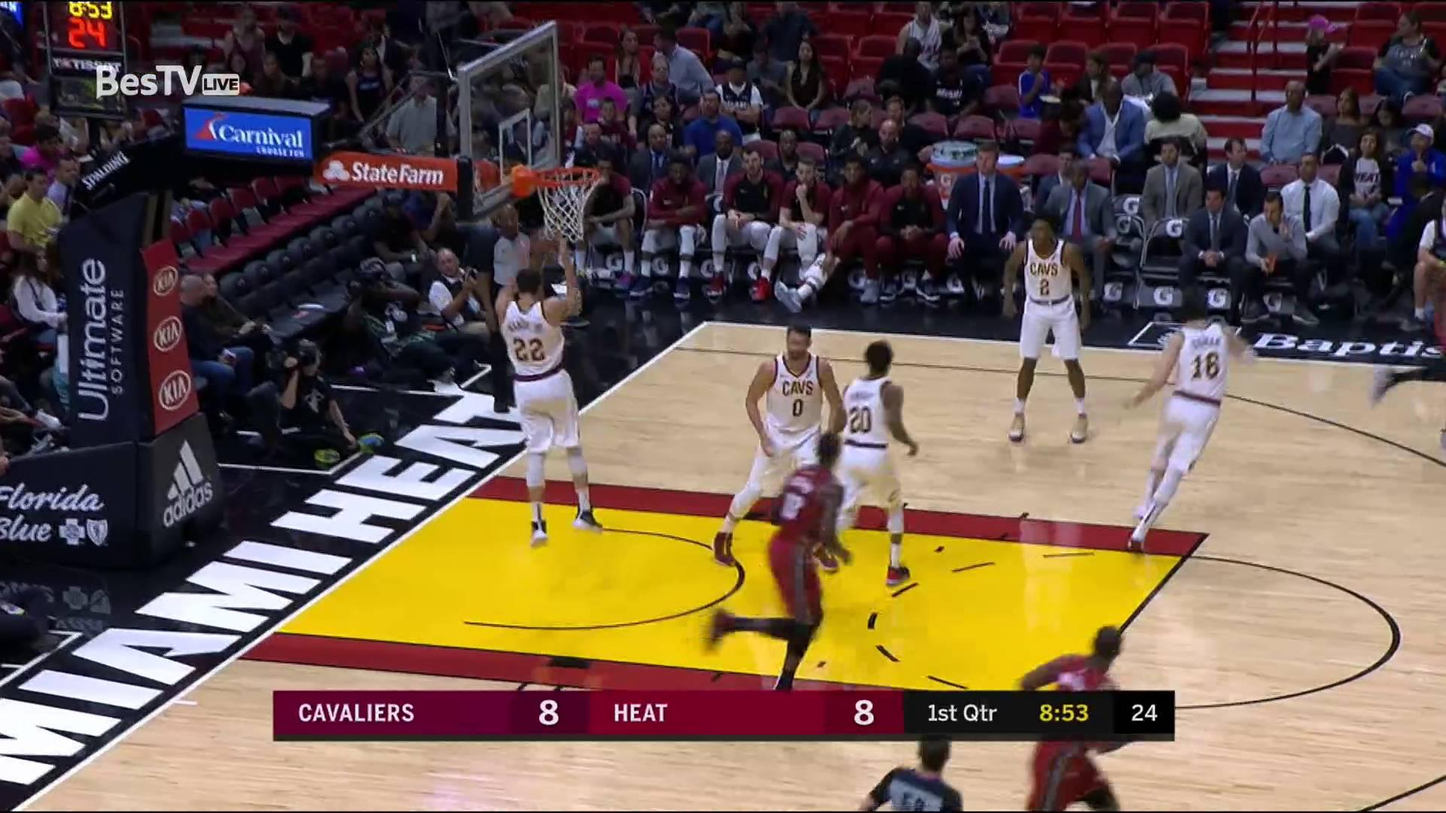basketball: (523, 224, 571, 261)
